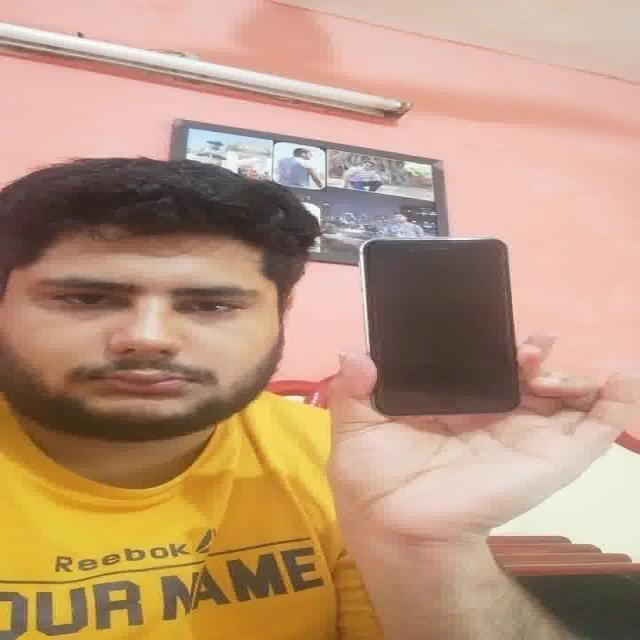Phone: (360, 234, 523, 415)
